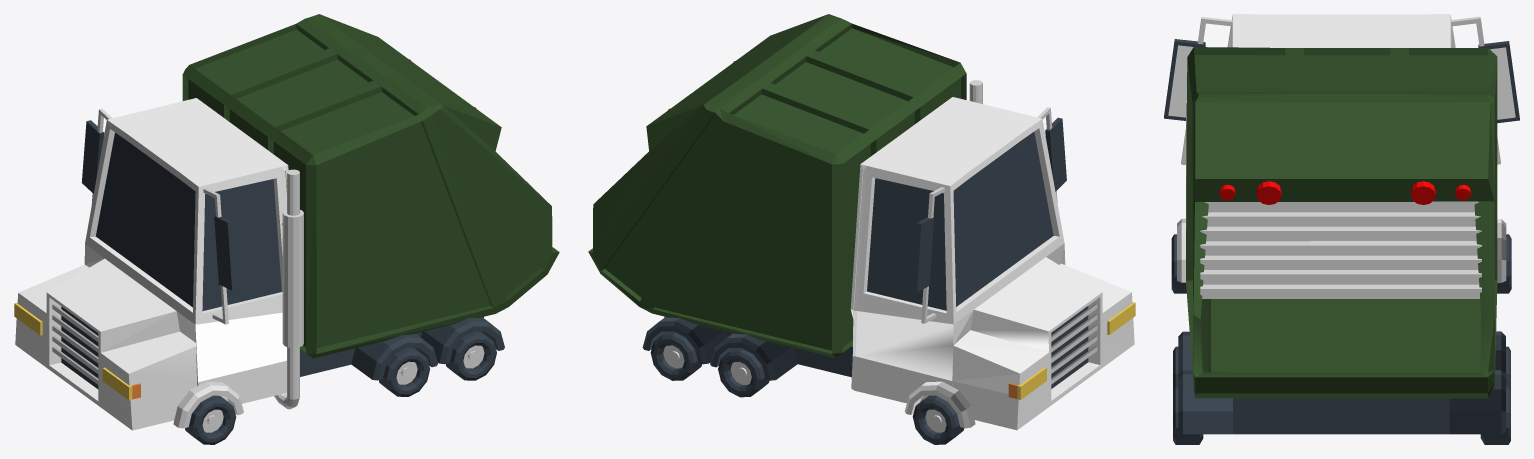
File: garbage_truck.fbx
The picture shows the model from 3 angles, left to right: view 1: azimuth 30°, elevation 25°; view 2: azimuth 150°, elevation 25°; view 3: azimuth 270°, elevation 25°; orthographic projection. The views are drawn at different scales.
Visible parts, largest first — view 1: garbage_truck; view 2: garbage_truck; view 3: garbage_truck.
Part boxes in pixels (x1,y1,x2,y2): garbage_truck: (14, 14, 559, 444); garbage_truck: (588, 14, 1135, 444); garbage_truck: (1164, 14, 1519, 444).
Size of the model in its own units: 375 by 231 by 228.
1 material, 1 textured.
